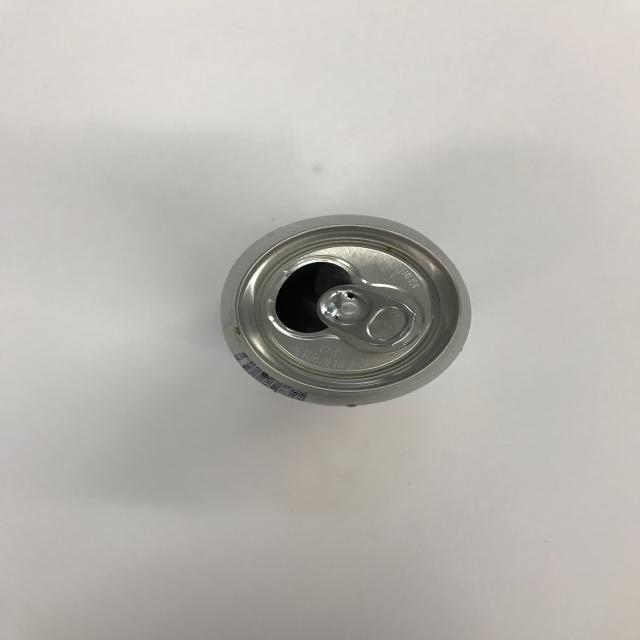metal: (221, 214, 474, 409)
